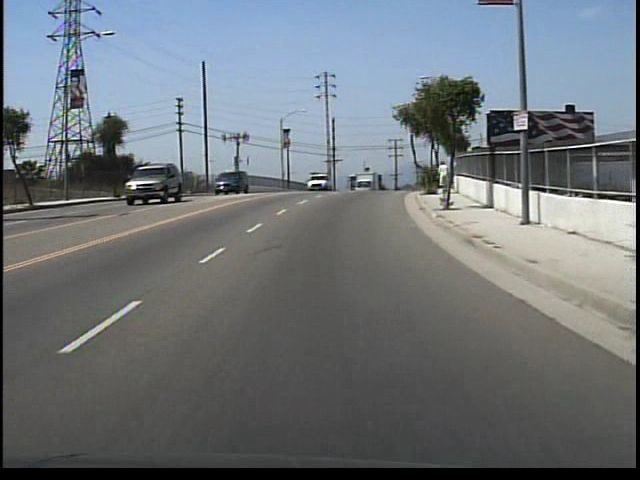person: (437, 158, 450, 194)
